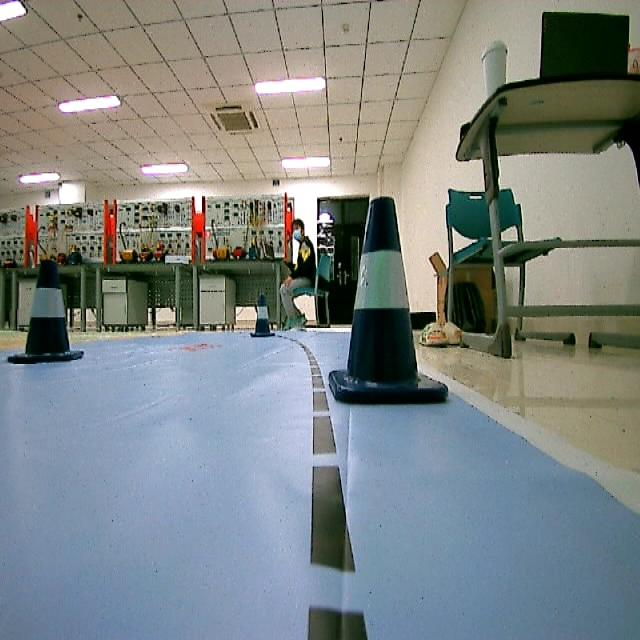obstacle: (335, 193, 456, 410), (5, 260, 85, 366), (247, 296, 276, 336)
